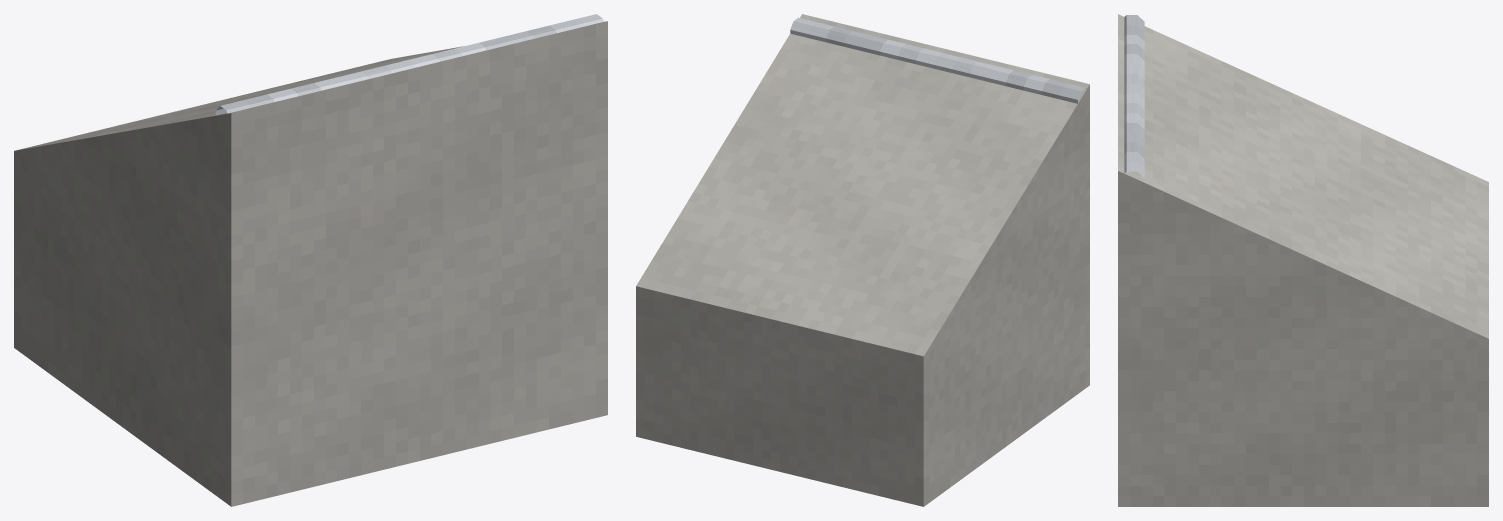
The model's file is bank_high.obj.
The picture shows the model from 3 angles, left to right: view 1: azimuth 30°, elevation 25°; view 2: azimuth 150°, elevation 25°; view 3: azimuth 270°, elevation 25°; orthographic projection. The views are drawn at different scales.
Parts seen in each view (by area): view 1: bank_high; view 2: bank_high; view 3: bank_high.
Boxes of the visible parts, x1,y1,x2,y2 form: bank_high: [14, 14, 607, 506]; bank_high: [636, 14, 1089, 506]; bank_high: [1118, 14, 1488, 506].
Size of the model in its own units: 1 by 1 by 1.
